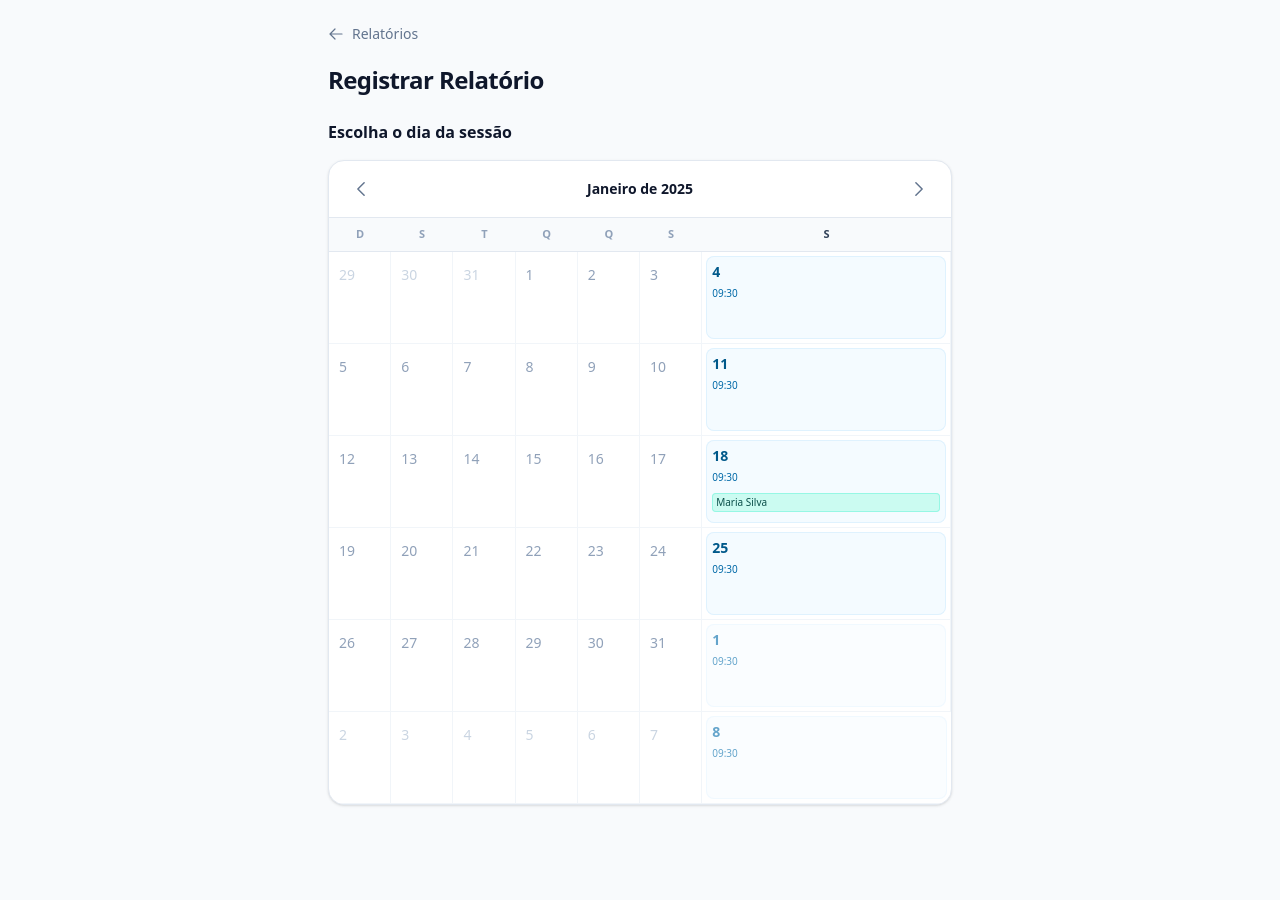
report calendar dates › allows choosing a day without sessions and explains why there is nothing to report
This screenshot has width=1280, height=900.
What coordinates should you click on to do the following:
click the button "11 09:30"
I would click on:
 (826, 389)
Its box is [706,348,946,430].
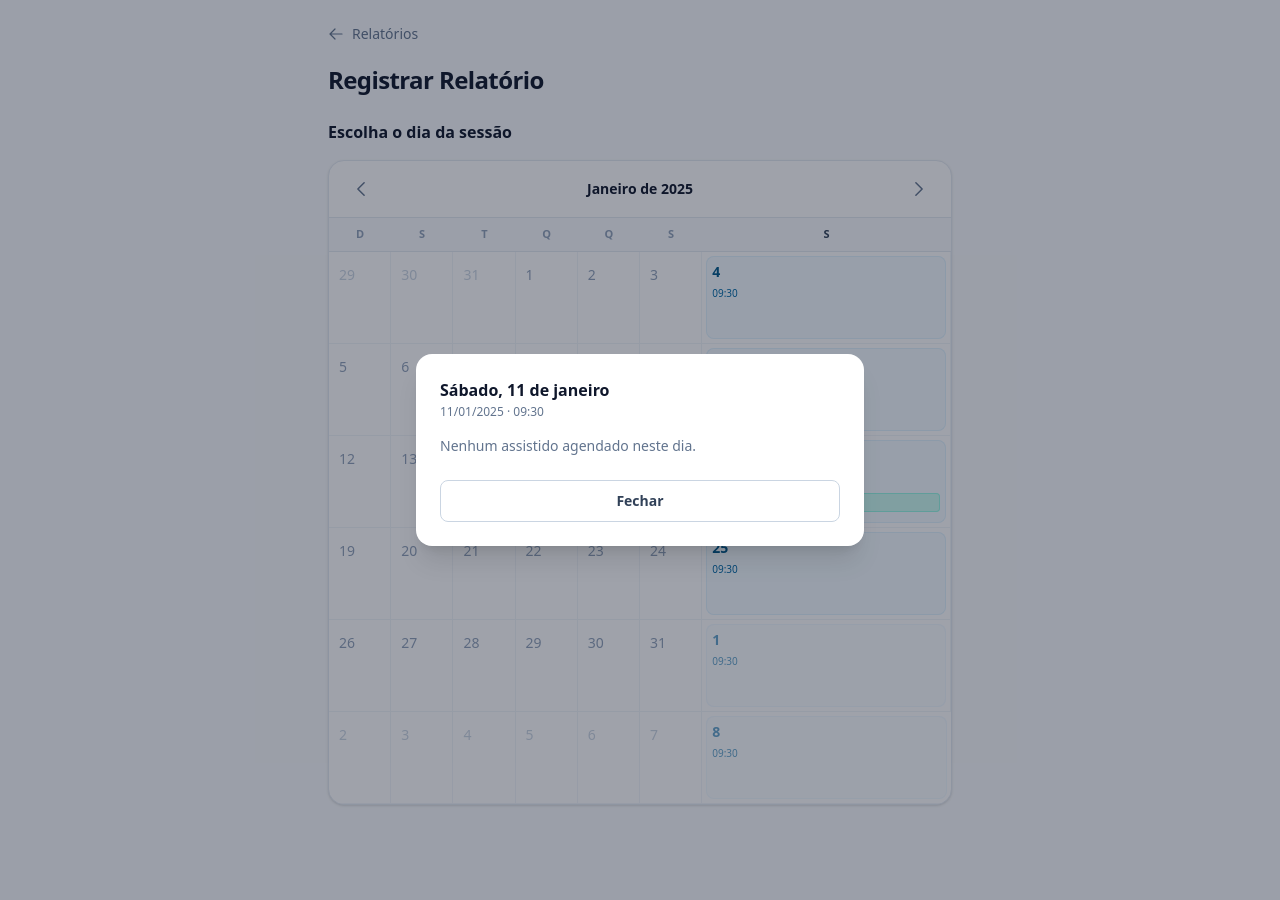
Now the text "Nenhum assistido agendado neste dia." is shown, box [440,436,696,455]
